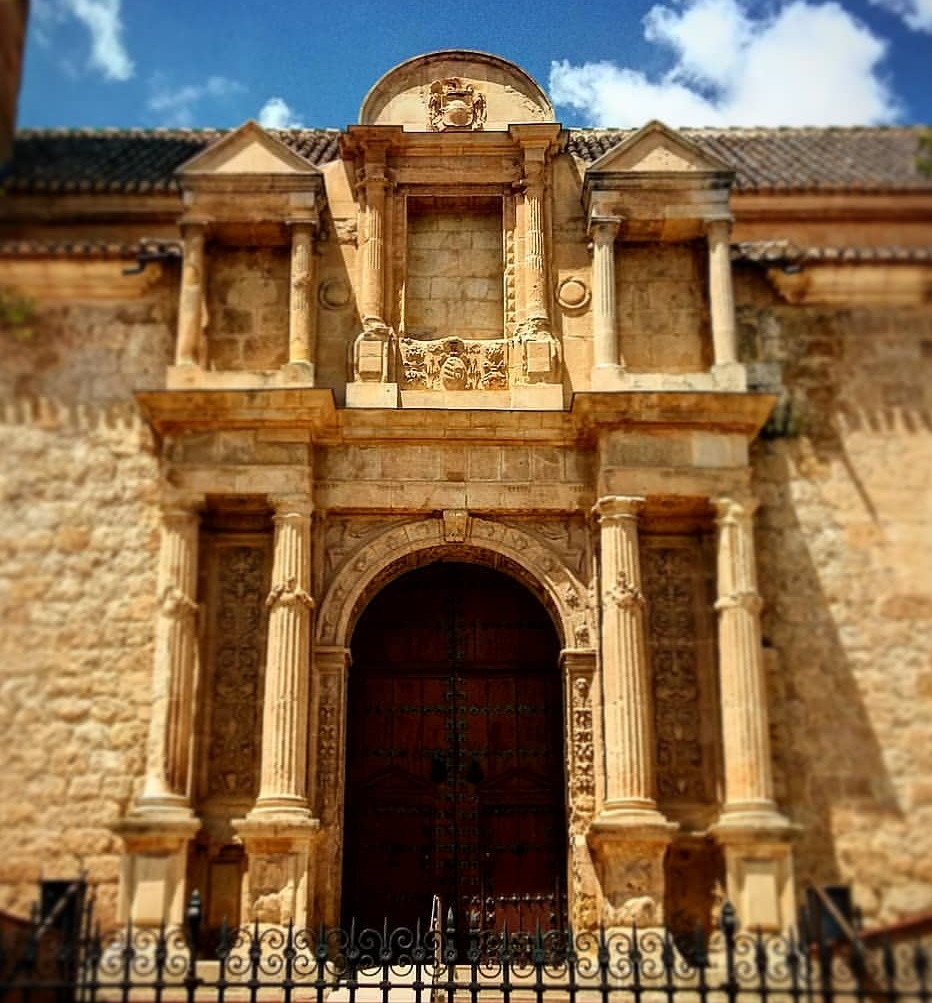arco-medio-punto: (328, 517, 592, 693)
fronton: (581, 116, 742, 185), (173, 114, 327, 182)
vano-adintelado: (372, 175, 529, 346)
